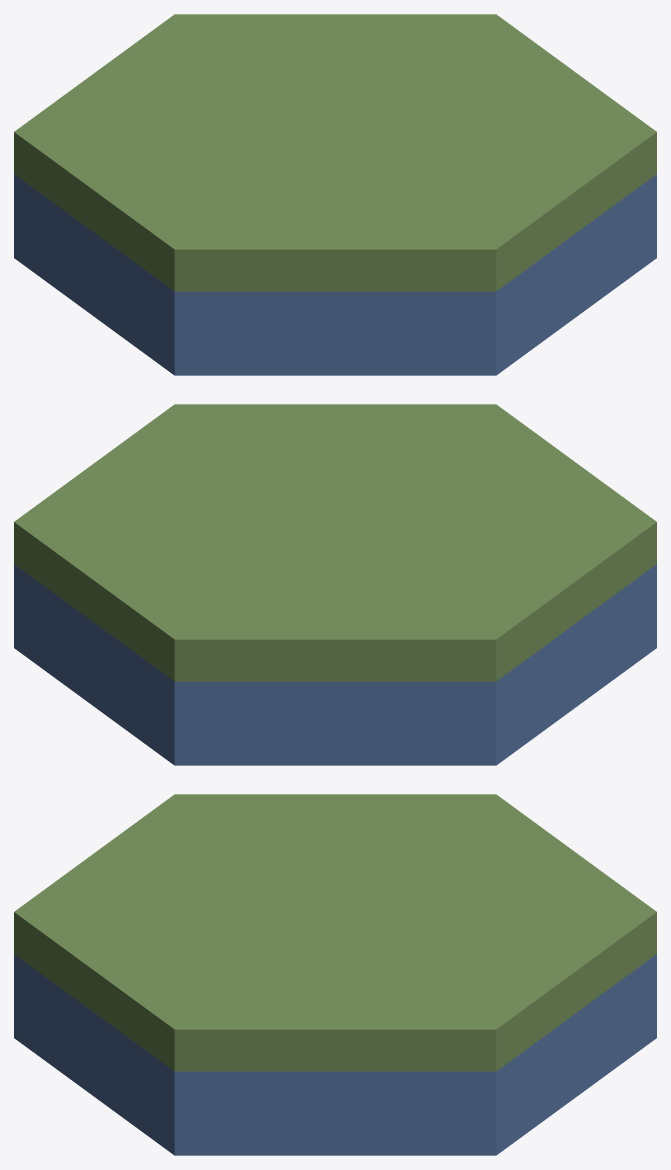
The model's file is hex_34.glb.
The picture shows the model from 3 angles, top to bottom: view 1: azimuth 30°, elevation 25°; view 2: azimuth 150°, elevation 25°; view 3: azimuth 270°, elevation 25°; orthographic projection.
Parts seen in each view (by area): view 1: hex_34; view 2: hex_34; view 3: hex_34.
Boxes of the visible parts, box(x1,y1,x2,y2) form: hex_34: box(14, 14, 656, 375); hex_34: box(14, 404, 656, 765); hex_34: box(14, 794, 656, 1155).
Bounding box in the file's own units: 0.9994 × 0.2498 × 1.15.
